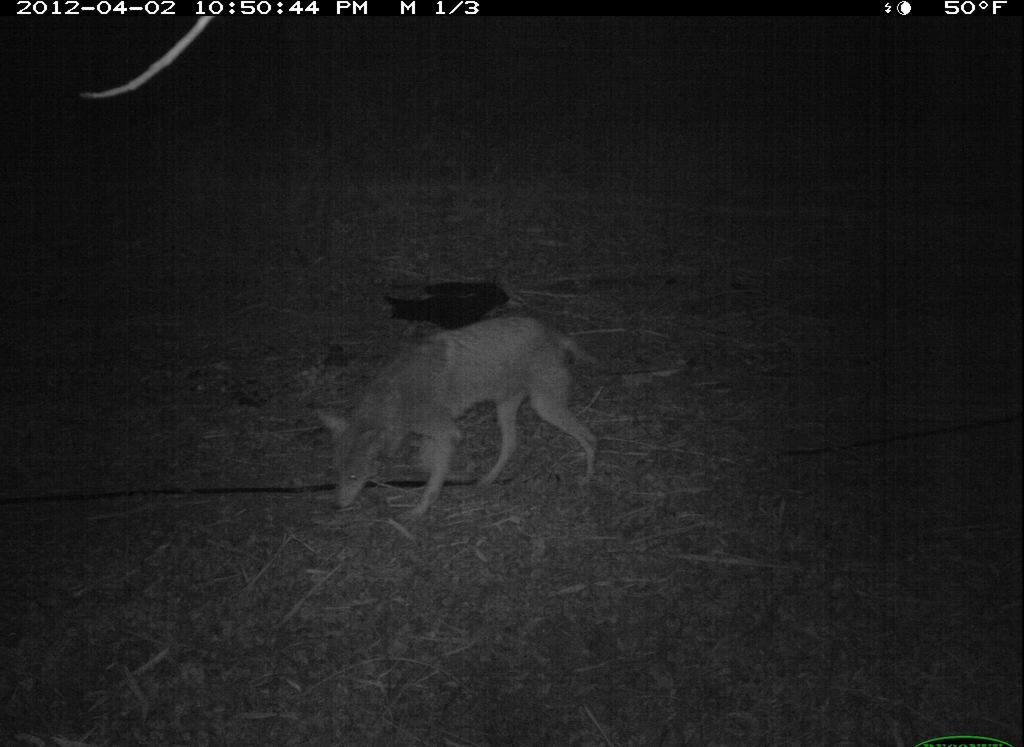coyote: (309, 300, 611, 555)
